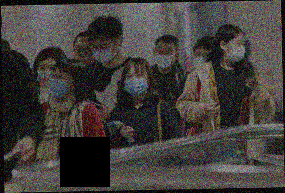with_mask: (123, 71, 150, 97), (48, 69, 70, 100), (89, 41, 117, 65), (225, 38, 247, 65), (154, 44, 174, 70), (36, 63, 56, 83), (192, 50, 209, 71)
without_mask: (73, 43, 96, 68)
